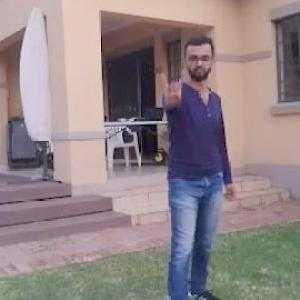takeoff-hand: (152, 61, 188, 109)
